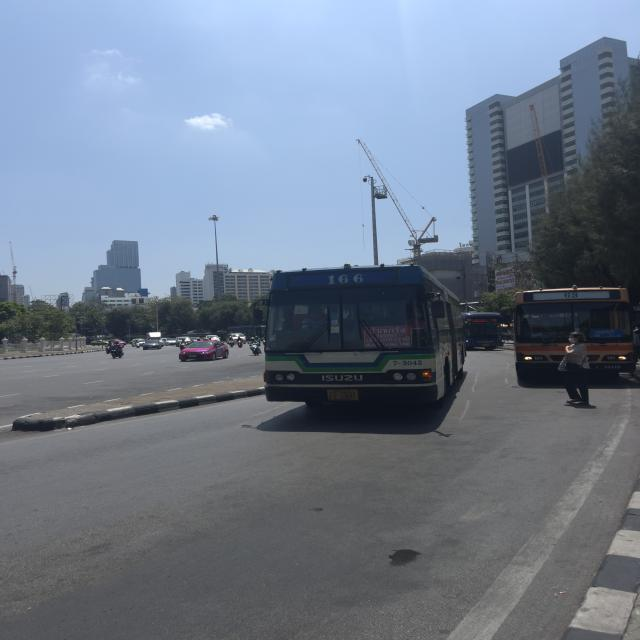BMTA-bus: (262, 264, 466, 421), (514, 288, 640, 391)
Bus-Line-Number: (327, 273, 366, 285), (562, 291, 580, 299), (489, 318, 498, 322)
Destination-Sign-Normal: (363, 326, 412, 349), (590, 328, 625, 338), (472, 318, 489, 322)
TSB-Bus: (465, 313, 506, 352)
